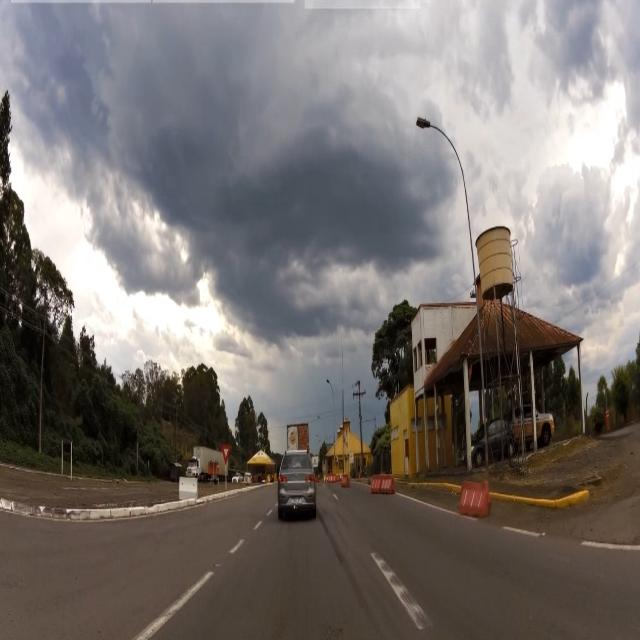R-2: (220, 443, 232, 466)
